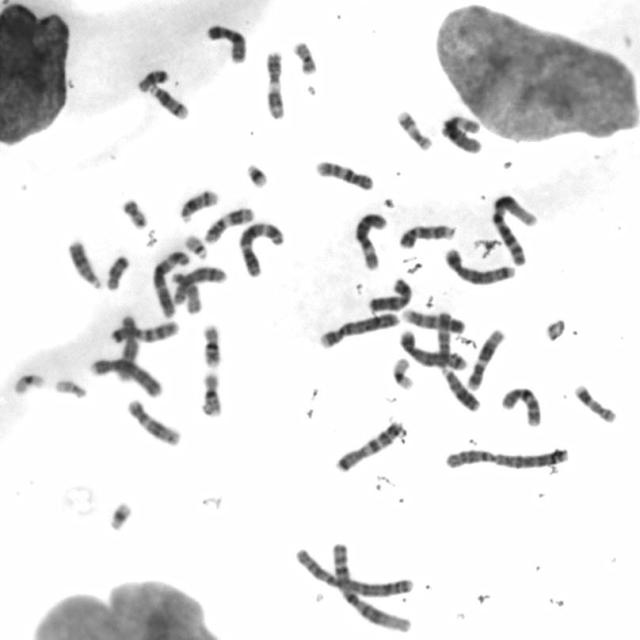A1: (326, 539, 414, 635), (487, 190, 540, 266)
A2: (292, 546, 415, 598), (440, 442, 571, 472)
A3: (149, 247, 192, 319), (235, 218, 286, 278)
B4: (87, 352, 163, 398), (315, 310, 402, 350)
B5: (395, 327, 470, 372), (441, 244, 516, 286)
C10: (313, 157, 376, 192), (498, 382, 543, 428)
C11: (201, 204, 256, 246), (260, 48, 286, 121)
C12: (124, 395, 182, 448), (464, 325, 506, 391)
C6: (350, 209, 389, 272), (437, 111, 484, 155)
C7: (332, 416, 407, 474), (108, 317, 180, 345)
C8: (169, 262, 229, 307), (116, 314, 142, 382)
C9: (396, 220, 457, 250), (401, 306, 466, 334)
D13: (438, 364, 481, 413), (66, 236, 103, 290)
D14: (147, 82, 190, 121), (177, 186, 220, 224)
D15: (168, 268, 203, 316), (434, 310, 452, 374)
E16: (197, 368, 224, 418), (198, 320, 224, 369)
E17: (571, 380, 618, 425), (394, 105, 433, 152)
E18: (103, 252, 131, 291), (134, 65, 170, 93)
F19: (389, 354, 416, 391), (10, 369, 46, 396)
F20: (120, 195, 152, 231), (292, 39, 320, 77)
G21: (104, 497, 134, 534), (242, 160, 270, 190)
G22: (52, 376, 88, 400), (181, 232, 209, 260)
X: (203, 21, 248, 65), (365, 274, 414, 314)
